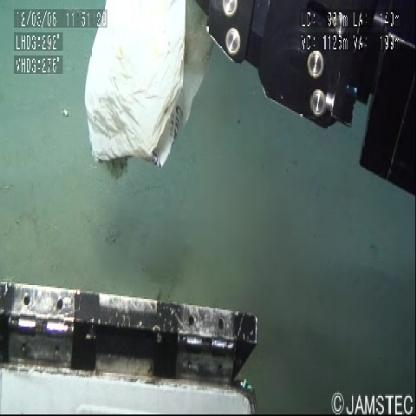Rov: (196, 3, 416, 232), (1, 271, 281, 416)
Rác: (84, 1, 216, 184)
